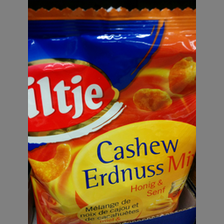nuts: (28, 5, 195, 223)
